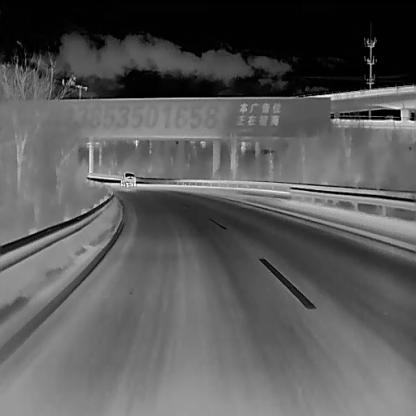car: (120, 172, 135, 186)
